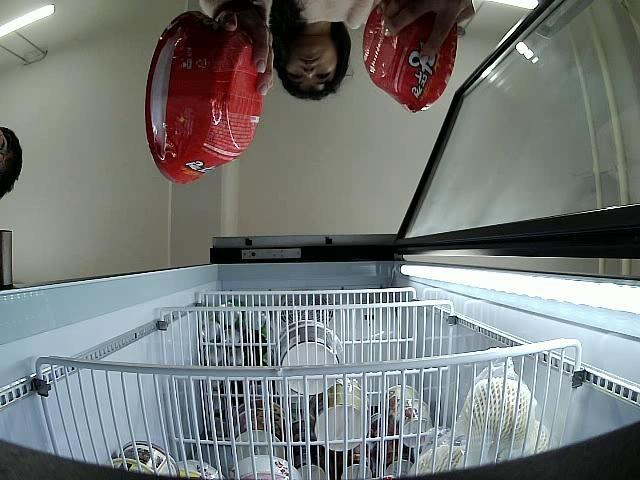10_wangTtukkeong: (144, 10, 263, 186), (362, 0, 458, 112)
